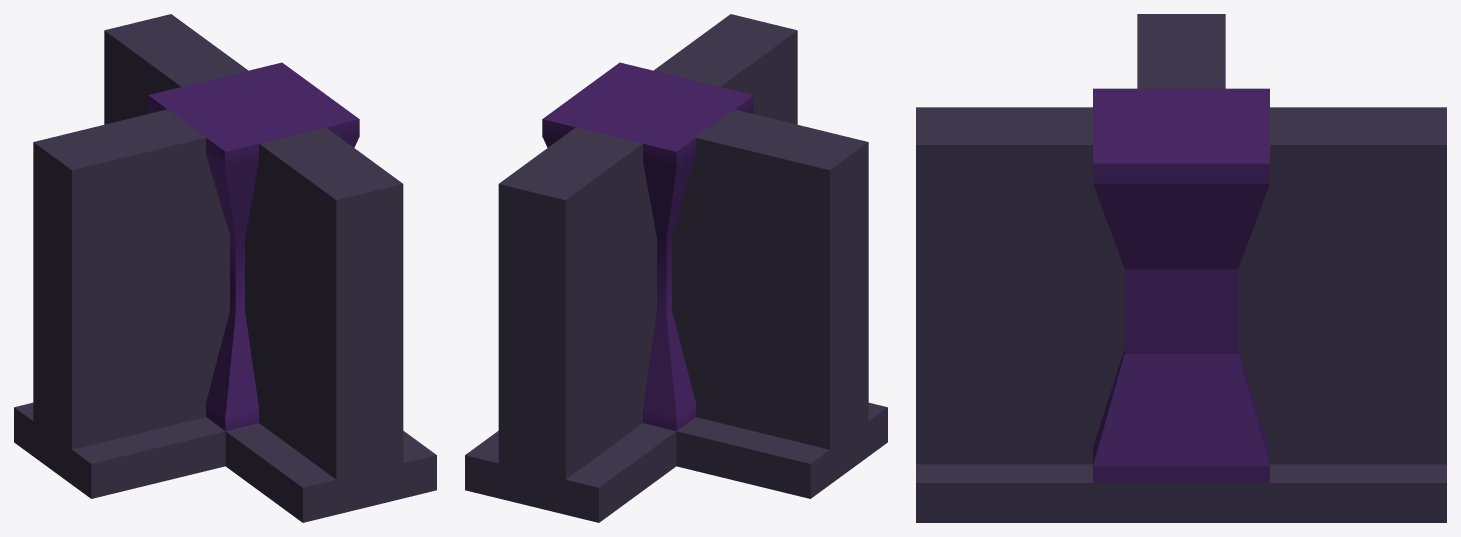
File: TWall.fbx
The picture shows the model from 3 angles, left to right: view 1: azimuth 30°, elevation 25°; view 2: azimuth 150°, elevation 25°; view 3: azimuth 270°, elevation 25°; orthographic projection. The views are drawn at different scales.
Parts seen in each view (by area): view 1: T_Wall; view 2: T_Wall; view 3: T_Wall.
Boxes of the visible parts, box(x1,y1,x2,y2) form: T_Wall: box(14, 14, 436, 522); T_Wall: box(465, 14, 887, 522); T_Wall: box(916, 14, 1446, 522).
Size of the model in its own units: 400 by 448 by 600.
